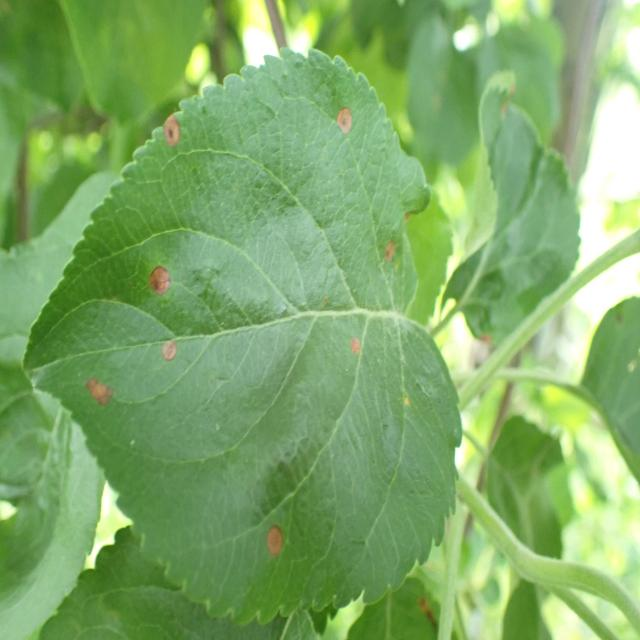Black Rot: (149, 84, 190, 163), (81, 354, 118, 415), (251, 510, 289, 568), (138, 254, 178, 302), (376, 229, 408, 279), (150, 326, 184, 364), (347, 321, 367, 375), (335, 98, 353, 140)
